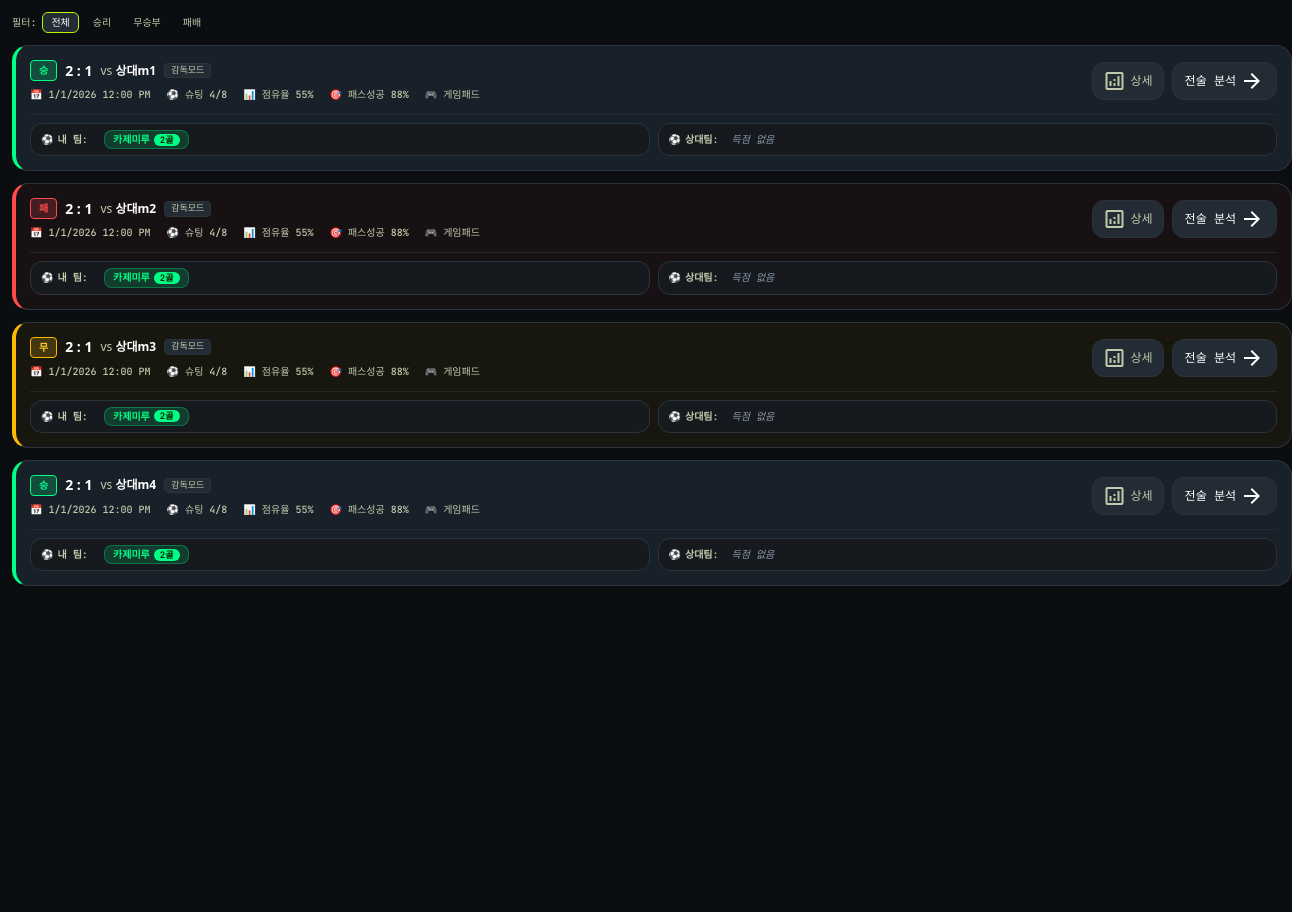
Test: MatchHistoryList › 상세 토글은 해당 카드만 펼친다
Check: the text "슈팅 유효율" is not shown
Click the text "상세" in the row of "상대m1" at (1142,81), box x1=1130 y1=73 x2=1153 y2=89
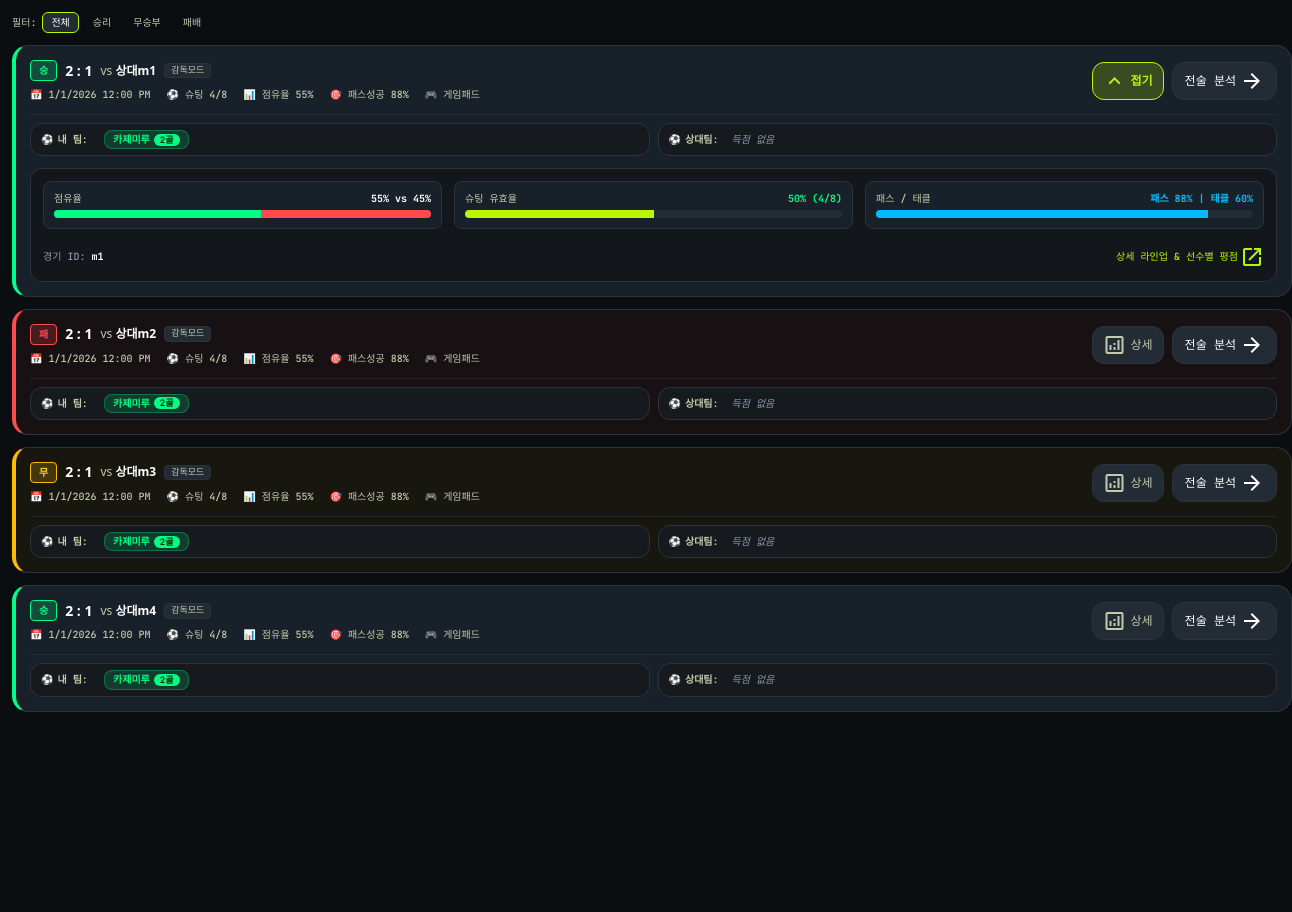
Check: the text "슈팅 유효율" is shown once, box x1=465 y1=192 x2=517 y2=206
Check: the text "접기" is shown, box x1=1130 y1=73 x2=1153 y2=89
